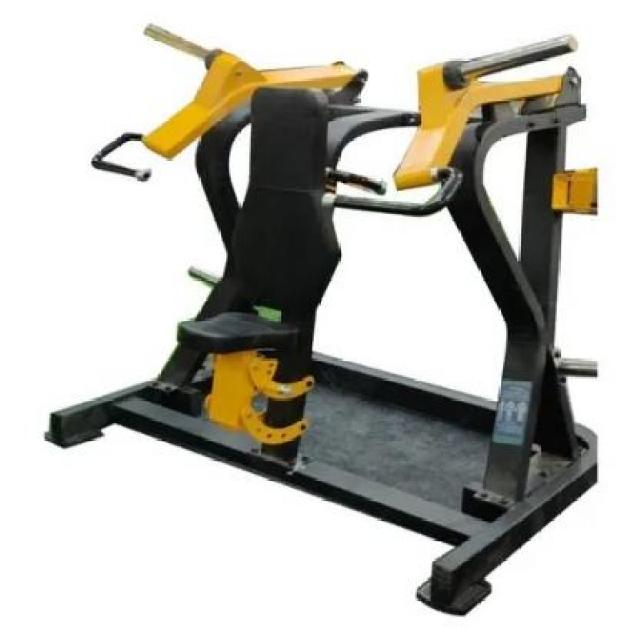shoulder press machine: (40, 20, 598, 615)
